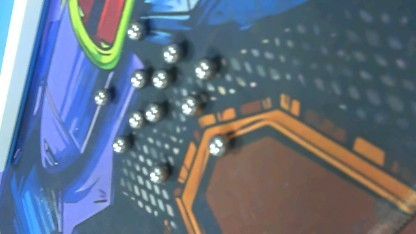ironball: (203, 129, 233, 152), (107, 134, 135, 156), (145, 163, 171, 185), (149, 67, 172, 91), (195, 56, 217, 80), (124, 106, 144, 131), (181, 94, 202, 116), (124, 69, 146, 88), (142, 101, 162, 120), (162, 42, 182, 60), (92, 85, 108, 106), (124, 21, 142, 37)
